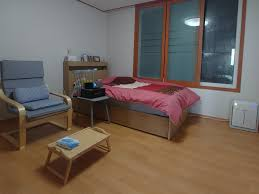Bed: (61, 57, 197, 142)
Chair: (1, 57, 73, 147)
Table: (43, 124, 114, 185)
